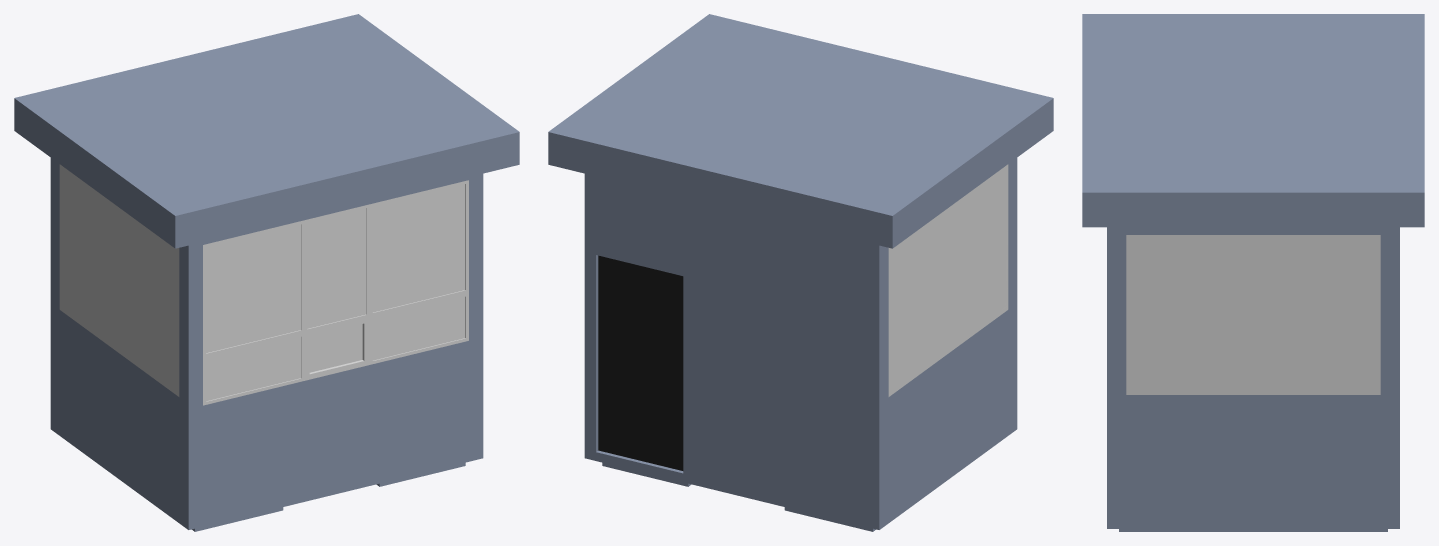
File: Control checkpoint.fbx
The picture shows the model from 3 angles, left to right: view 1: azimuth 30°, elevation 25°; view 2: azimuth 150°, elevation 25°; view 3: azimuth 270°, elevation 25°; orthographic projection. The views are drawn at different scales.
Visible parts, largest first — view 1: Checkpoint; view 2: Checkpoint; view 3: Checkpoint.
Boxes of the visible parts, x1,y1,x2,y2 form: Checkpoint: (14,14,519,531); Checkpoint: (548,14,1053,531); Checkpoint: (1082,14,1424,531).
Bounding box in the file's own units: 258 × 242 × 209.
